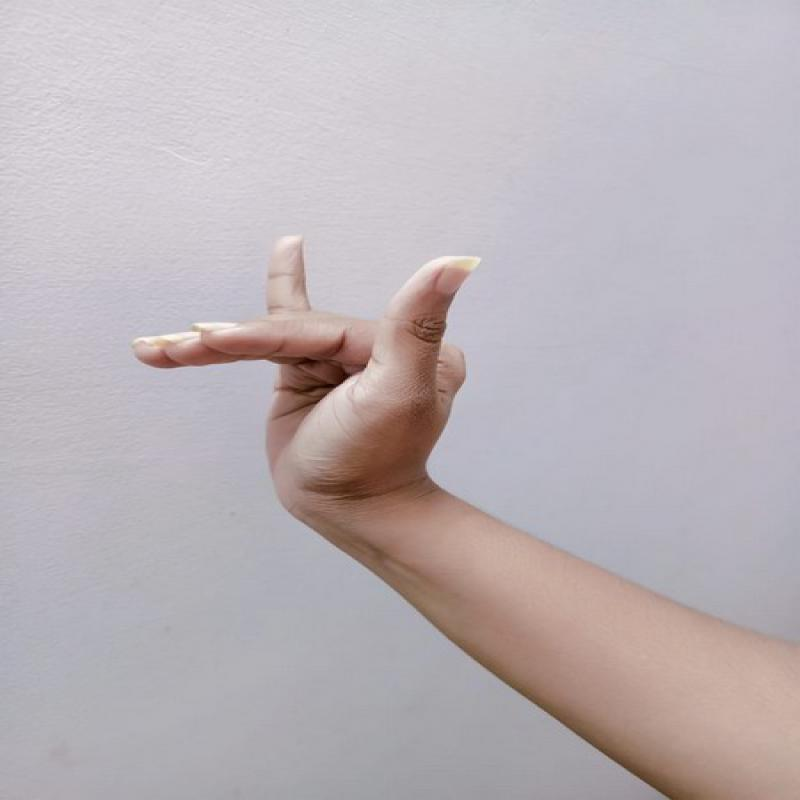Kartharee Mukham: (108, 210, 490, 532)
